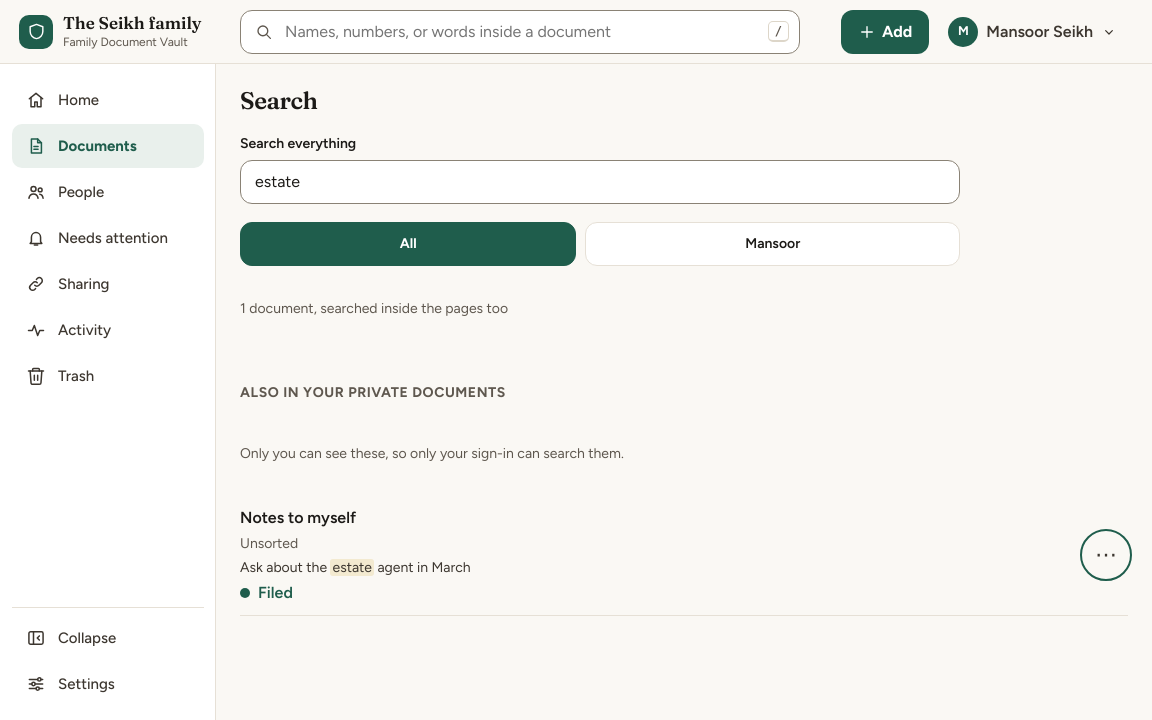
quick actions on every document (5.4) › the same search again keeps the private results, and the note on the row that acted
Click the button named "Actions for “Notes to myself”" at (1106, 555), box top-left (1084, 533), bottom-right (1128, 577)
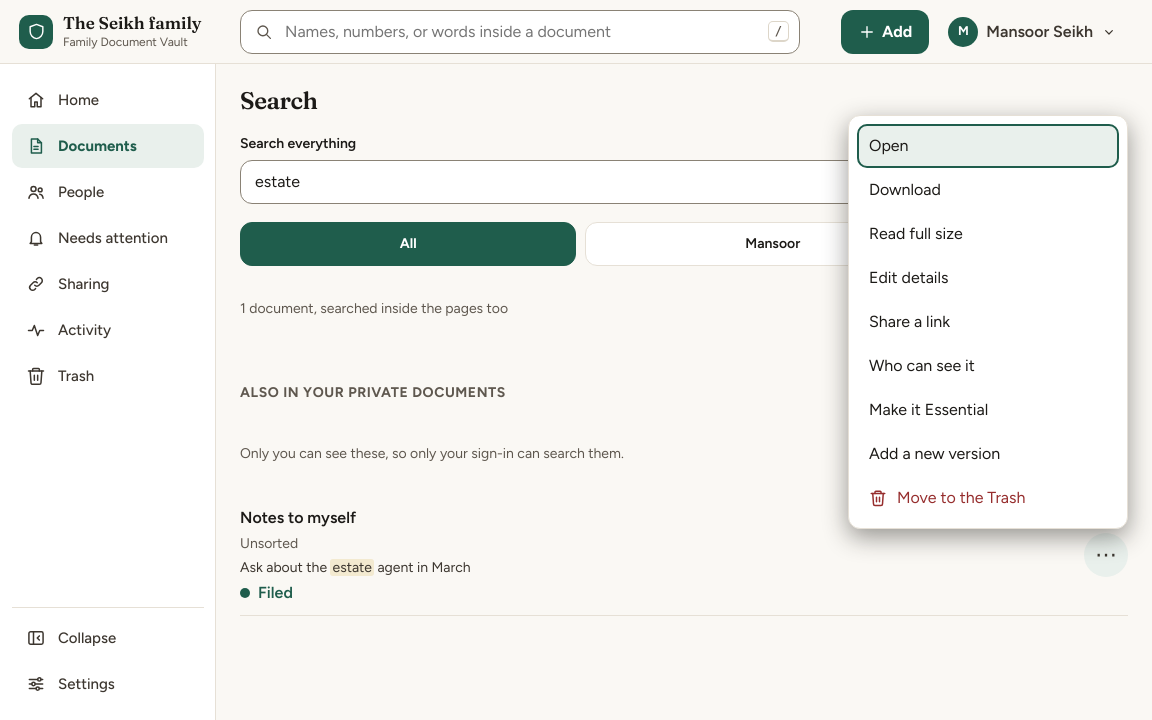
Click the menu item "Make it Essential" at (988, 410), box top-left (857, 388), bottom-right (1119, 432)
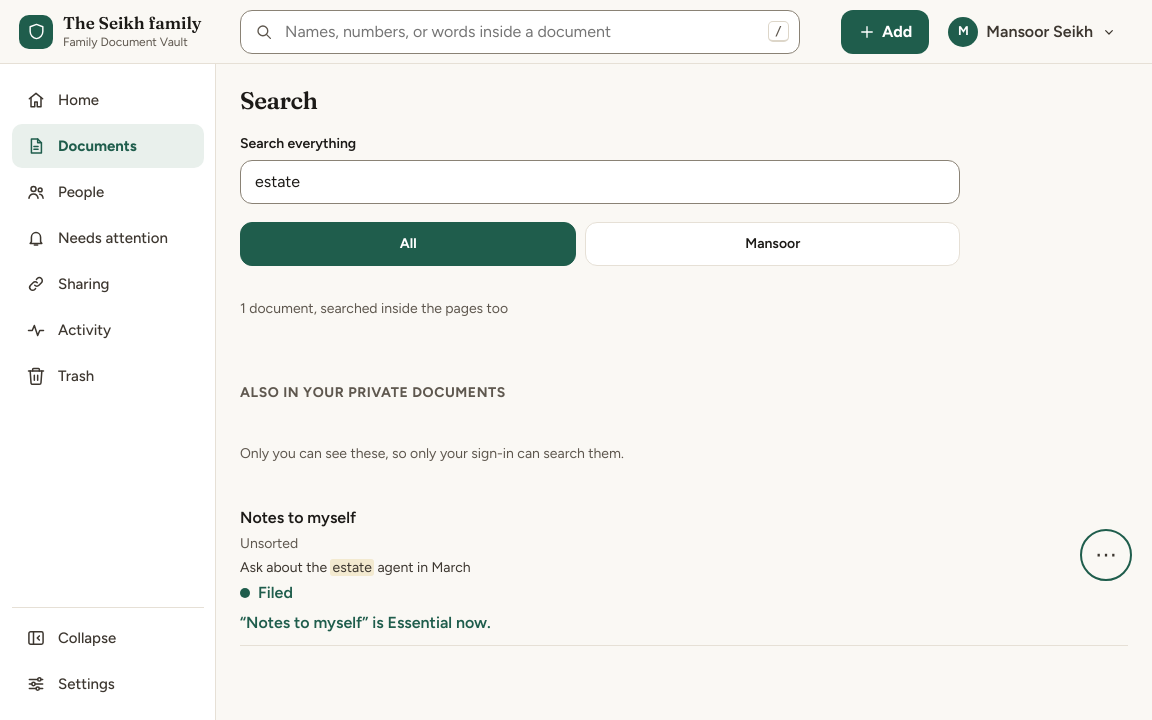
expect the text "“Notes to myself” is Essential now." is shown: met, box top-left (240, 612), bottom-right (491, 632)
